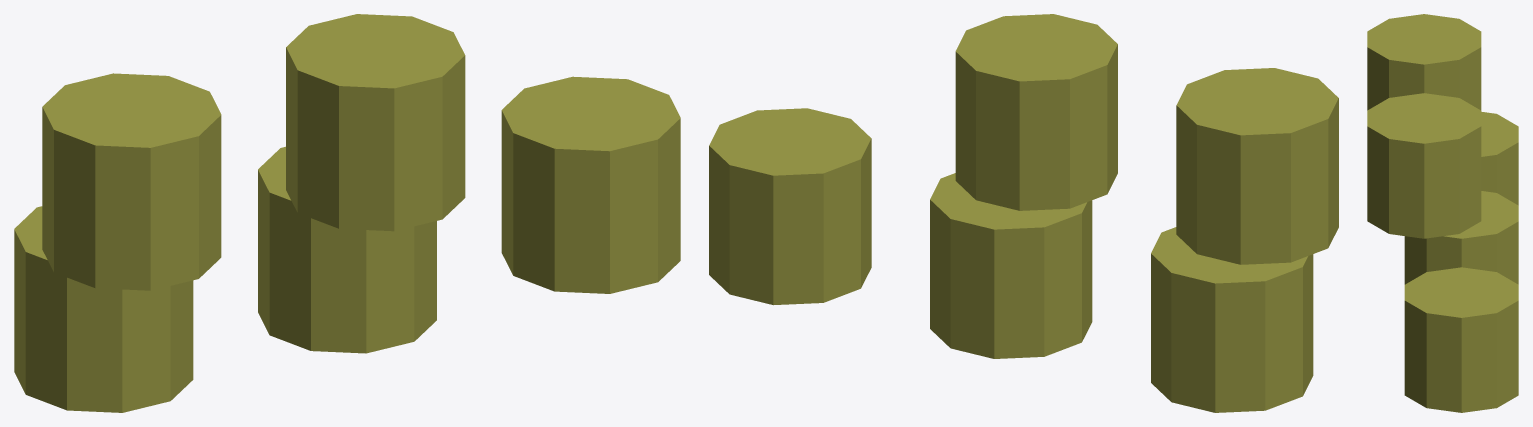
The model's file is hay_bales.glb.
The picture shows the model from 3 angles, left to right: view 1: azimuth 30°, elevation 25°; view 2: azimuth 150°, elevation 25°; view 3: azimuth 270°, elevation 25°; orthographic projection. The views are drawn at different scales.
Parts seen in each view (by area): view 1: hay_bales_mesh; view 2: hay_bales_mesh; view 3: hay_bales_mesh.
Part boxes in pixels (x1,y1,x2,y2): hay_bales_mesh: (14, 14, 680, 412); hay_bales_mesh: (709, 14, 1338, 412); hay_bales_mesh: (1367, 14, 1518, 412).
Size of the model in its own units: 0.132 by 0.056 by 0.0404.
